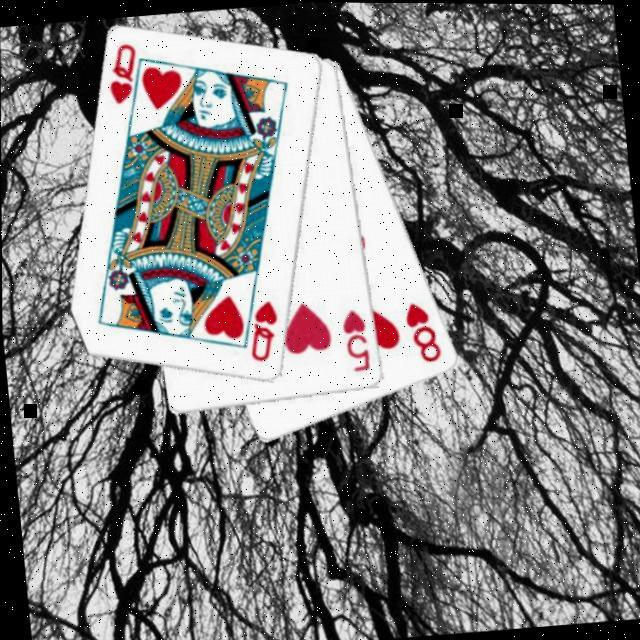5H: (340, 306, 376, 376)
8H: (403, 297, 447, 367)
QH: (104, 41, 153, 122), (244, 298, 286, 367)
